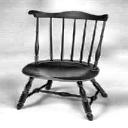chair_success: (8, 6, 114, 122)
